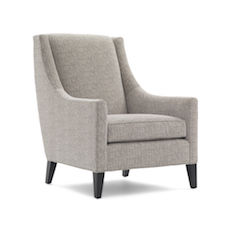chair: (20, 17, 209, 211)
